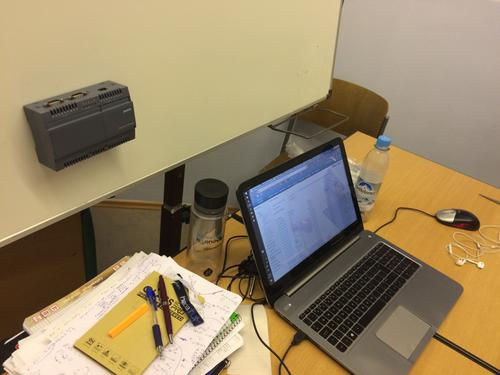iot2000: (22, 79, 137, 172)
